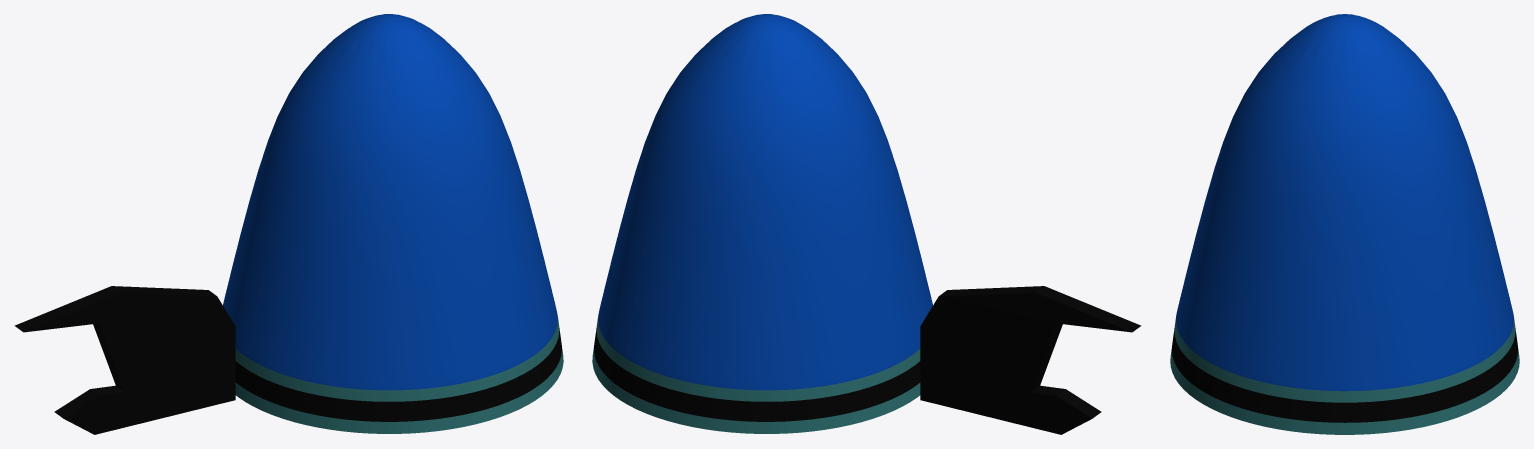
Rendered from NaveDomo.obj.
3 views of the same model, side by side, from view 1: azimuth 30°, elevation 25°; view 2: azimuth 150°, elevation 25°; view 3: azimuth 270°, elevation 25° (orthographic).
Parts seen in each view (by area): view 1: Circle.001, Circle.002; view 2: Circle.001, Circle.002; view 3: Circle.001.
Part boxes in pixels (x1,y1,x2,y2): Circle.001: [223, 14, 563, 433]; Circle.002: [14, 286, 235, 434]; Circle.001: [592, 14, 932, 433]; Circle.002: [920, 286, 1141, 434]; Circle.001: [1170, 14, 1519, 434].
Size of the model in its own units: 1.68 by 1.07 by 0.9762.
